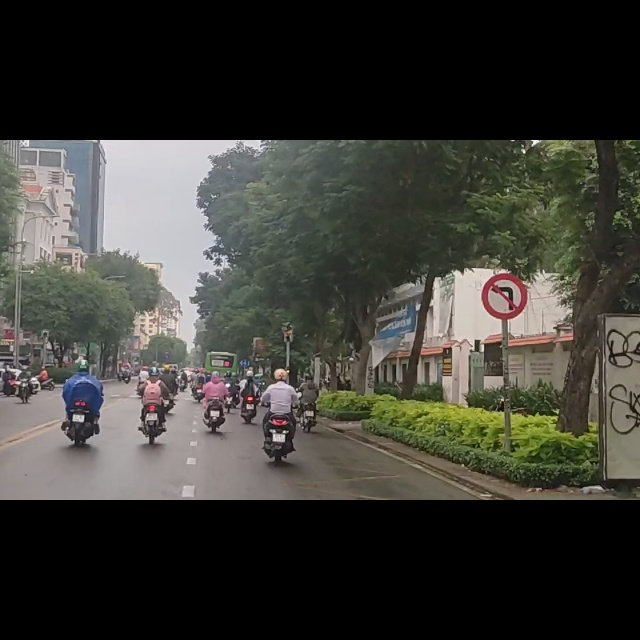bien_cam: (481, 238, 531, 321)
